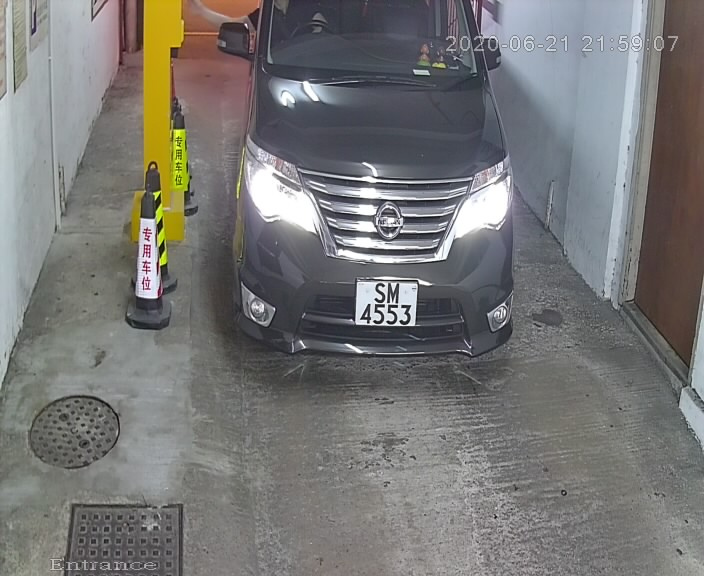privatecar: (187, 1, 553, 397)
